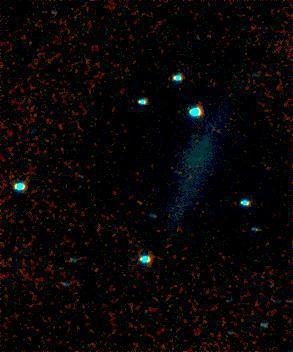star: (85, 256, 115, 286)
